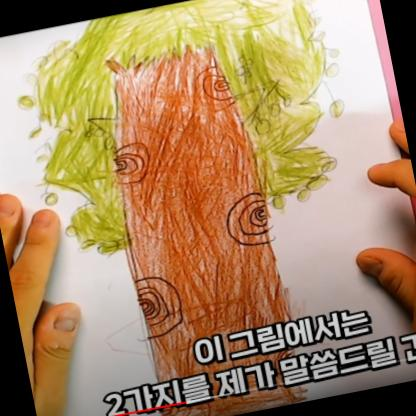knot: (219, 188, 279, 253), (131, 272, 191, 336), (185, 64, 238, 114), (109, 141, 156, 188)
trunk_straight: (102, 118, 292, 340)
